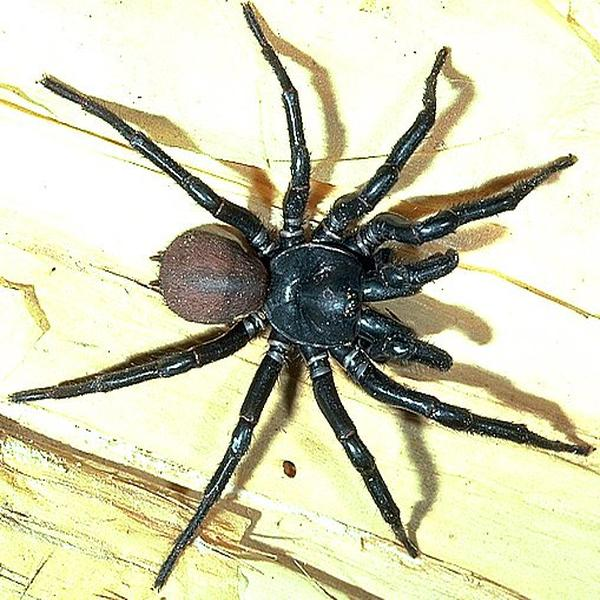Funnel Web Spider: (29, 24, 574, 560)
